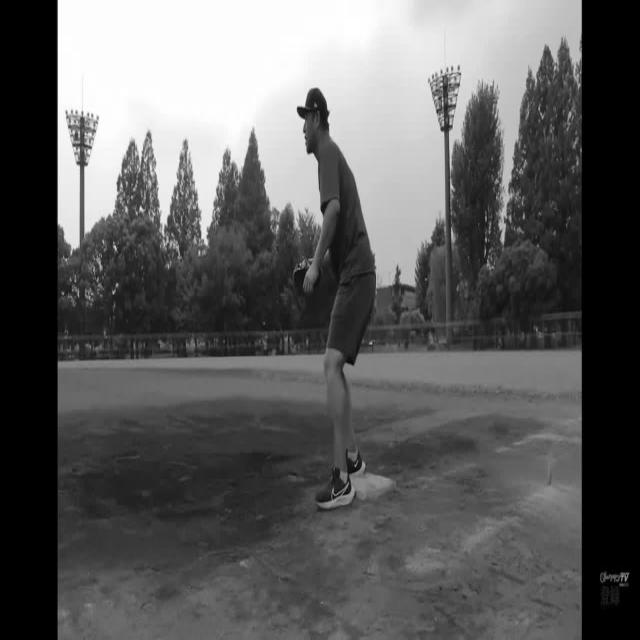base: (349, 474, 399, 502)
baseball_glove: (292, 260, 321, 324)
shoe: (315, 471, 351, 511), (345, 453, 367, 472)
